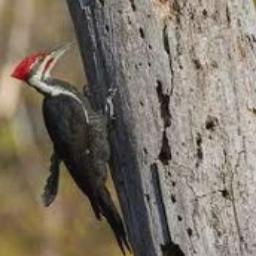Woodpecker: (10, 39, 132, 255)
